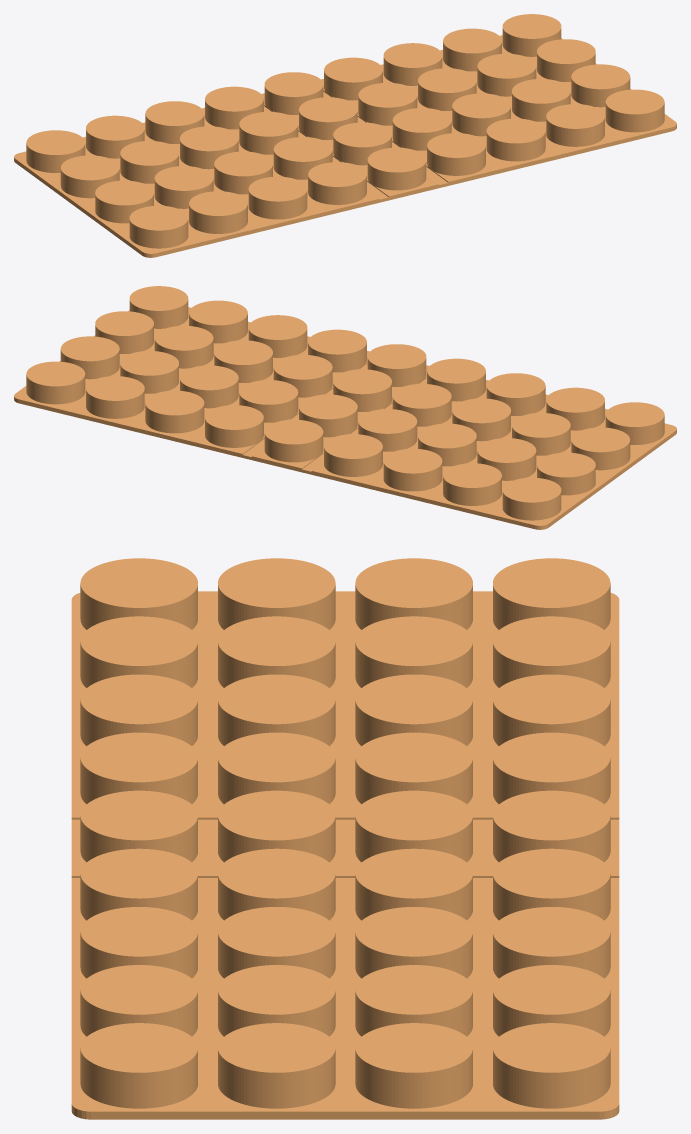
Rendered from skin-cargo-shroud.glb.
The picture shows the model from 3 angles, top to bottom: view 1: azimuth 30°, elevation 25°; view 2: azimuth 150°, elevation 25°; view 3: azimuth 270°, elevation 25°; orthographic projection. The views are drawn at different scales.
Visible parts, largest first — view 1: skin-cargo-shroud; view 2: skin-cargo-shroud; view 3: skin-cargo-shroud.
Boxes of the visible parts, box(x1,y1,x2,y2) form: skin-cargo-shroud: box(14, 14, 676, 257); skin-cargo-shroud: box(14, 286, 676, 529); skin-cargo-shroud: box(71, 558, 619, 1119).
Bounding box in the file's own units: 0.112 × 0.0044 × 0.0498.
